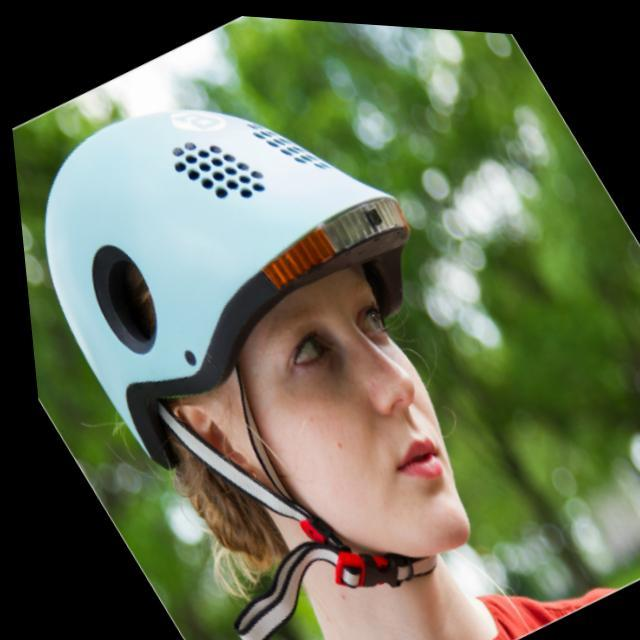Helmet: (35, 100, 484, 577)
